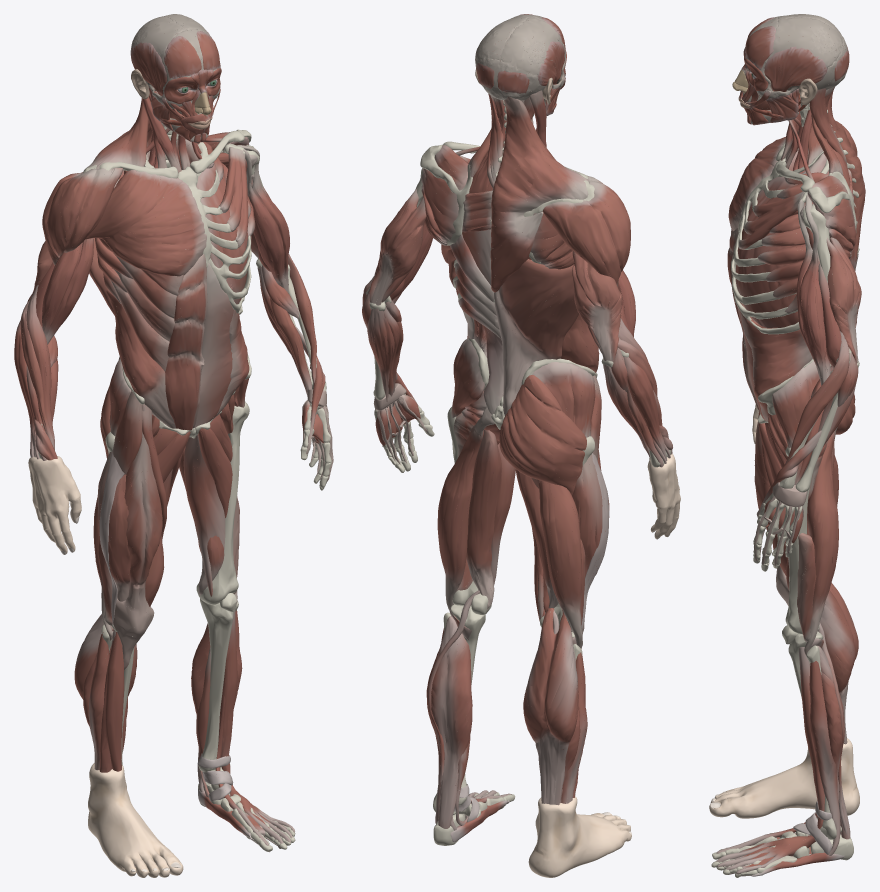
The model's file is ecorche_anatomy_study.glb.
The picture shows the model from 3 angles, left to right: view 1: azimuth 30°, elevation 25°; view 2: azimuth 150°, elevation 25°; view 3: azimuth 270°, elevation 25°; orthographic projection.
Visible parts, largest first — view 1: Object_4, Object_5, Object_6, Object_9, Object_11, Object_7; view 2: Object_4, Object_5, Object_6, Object_9, Object_11, Object_7; view 3: Object_5, Object_4, Object_6, Object_9, Object_11, Object_7.
Boxes of the visible parts, x1,y1,x2,y2 form: Object_4: (20,14,321,838); Object_5: (14,21,323,867); Object_6: (21,16,333,848); Object_9: (21,123,331,851); Object_11: (28,456,183,877); Object_7: (22,16,322,845); Object_4: (362,14,663,816); Object_5: (362,14,672,842); Object_6: (362,15,672,836); Object_9: (366,100,671,845); Object_11: (528,453,680,877); Object_7: (362,15,650,820); Object_5: (716,17,865,876); Object_4: (725,14,865,870); Object_6: (716,15,863,875); Object_9: (711,96,859,877); Object_11: (709,404,859,818); Object_7: (735,16,861,859).
Bounding box in the file's own units: 0.0101 × 0.0269 × 0.00465.
